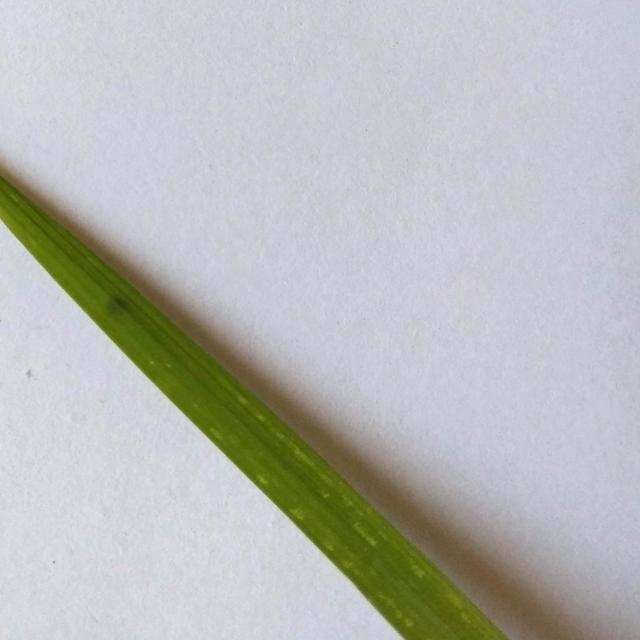Rice_Healthy: (0, 178, 508, 640)
